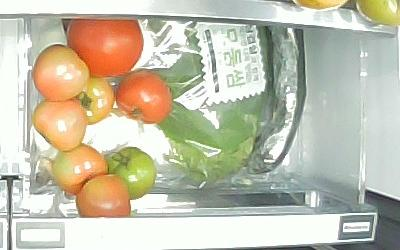tomato: (65, 19, 145, 78), (115, 70, 175, 128), (33, 44, 90, 102), (53, 145, 107, 196), (106, 147, 157, 201), (33, 99, 85, 151), (77, 174, 130, 218), (77, 77, 116, 125)
